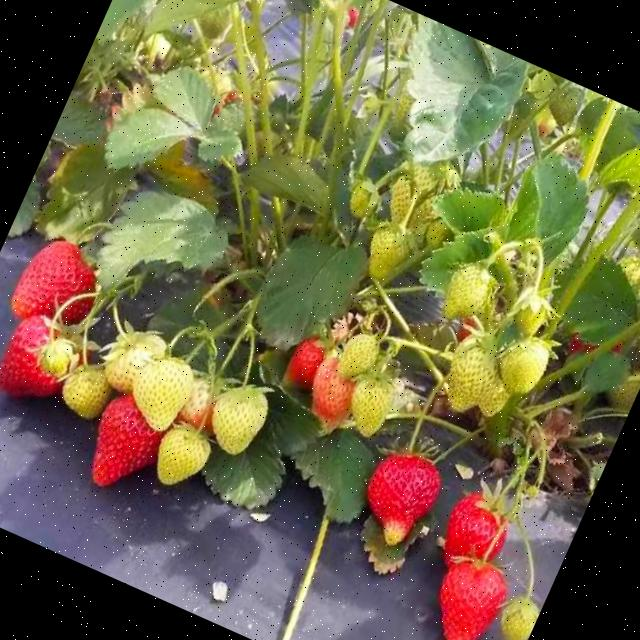Ripe Strawberry: (8, 230, 110, 342), (76, 388, 173, 501), (350, 444, 447, 553), (0, 309, 84, 413), (419, 552, 513, 640), (434, 491, 515, 579), (282, 334, 330, 390)
